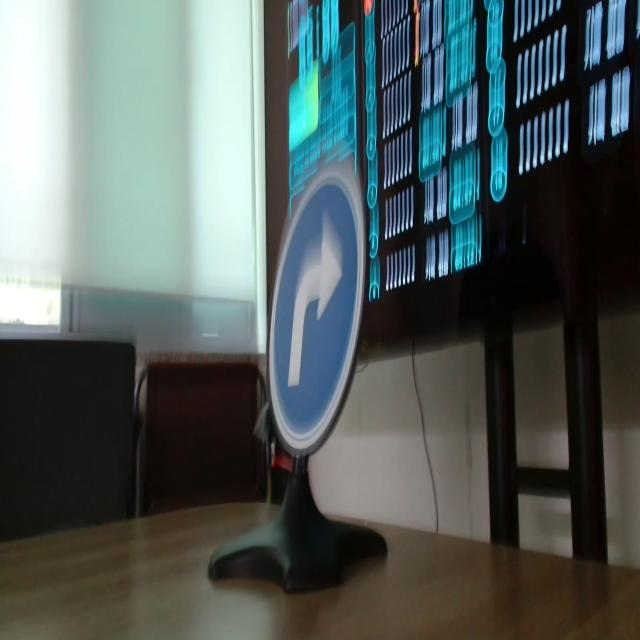right_dierection: (264, 167, 392, 456)
